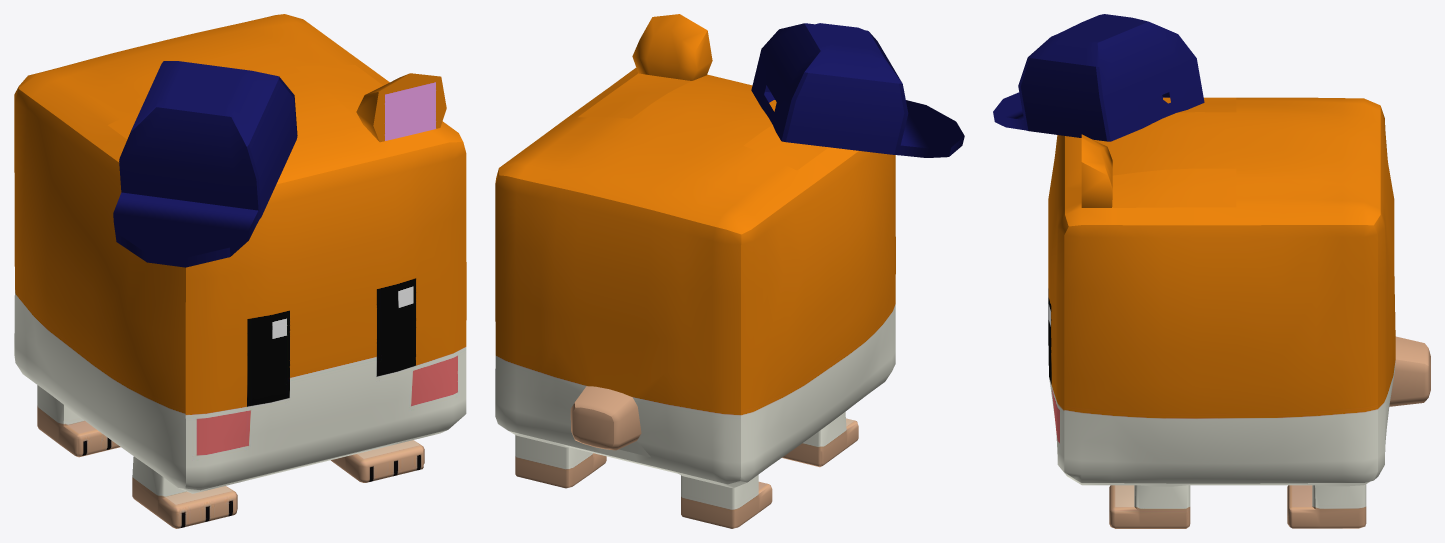
File: CapSideIdle.fbx
3 views of the same model, side by side, from view 1: azimuth 30°, elevation 25°; view 2: azimuth 150°, elevation 25°; view 3: azimuth 270°, elevation 25° (orthographic). The views are drawn at different scales.
Parts seen in each view (by area): view 1: CAP:pCube9; view 2: CAP:pCube9; view 3: CAP:pCube9.
Boxes of the visible parts, x1,y1,x2,y2 form: CAP:pCube9: (14,14,466,528); CAP:pCube9: (495,14,964,528); CAP:pCube9: (993,14,1430,528).
Size of the model in its own units: 4.83 by 5.71 by 5.5.
